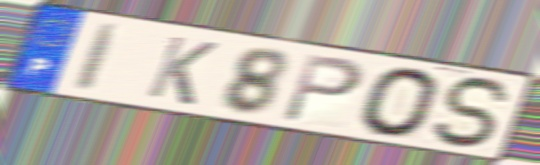8: (218, 45, 292, 118)
I: (70, 21, 126, 95)
K: (142, 33, 221, 108)
O: (356, 65, 444, 140)
P: (278, 51, 366, 125)
S: (431, 75, 517, 151)
